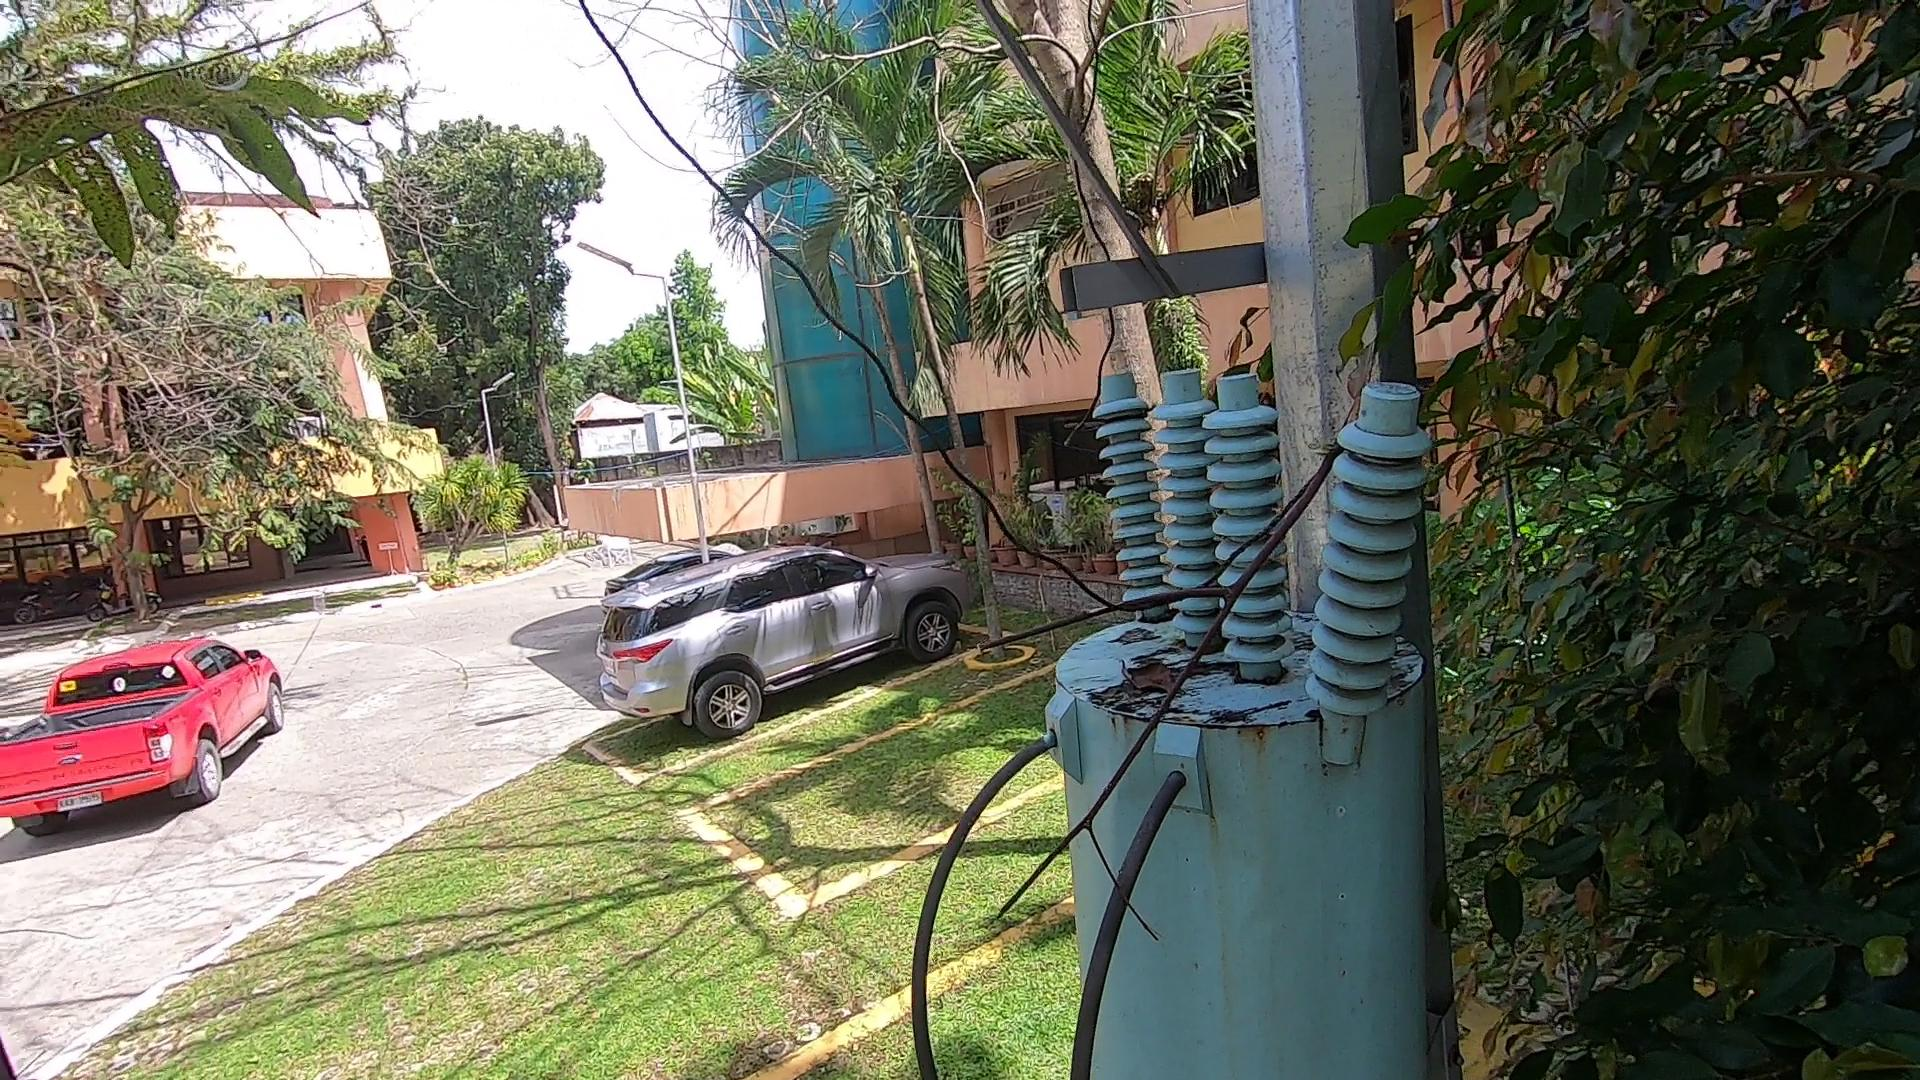leaf: (1101, 653, 1178, 709)
tree branch: (934, 430, 1394, 967)
